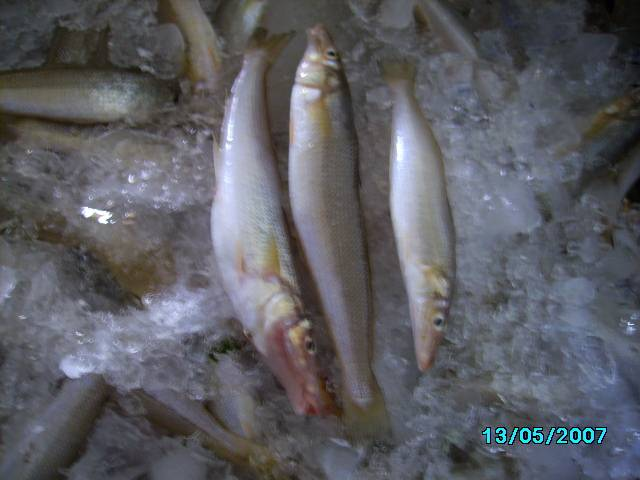kiss: (279, 17, 390, 410), (376, 51, 472, 378)
